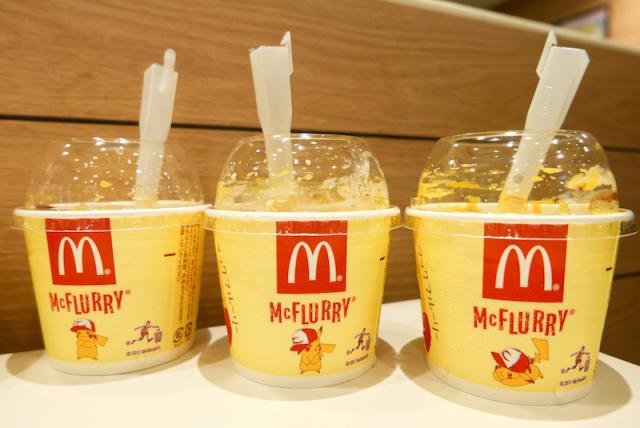mcdonalds: (490, 241, 560, 298), (284, 237, 347, 296), (51, 229, 111, 285)
